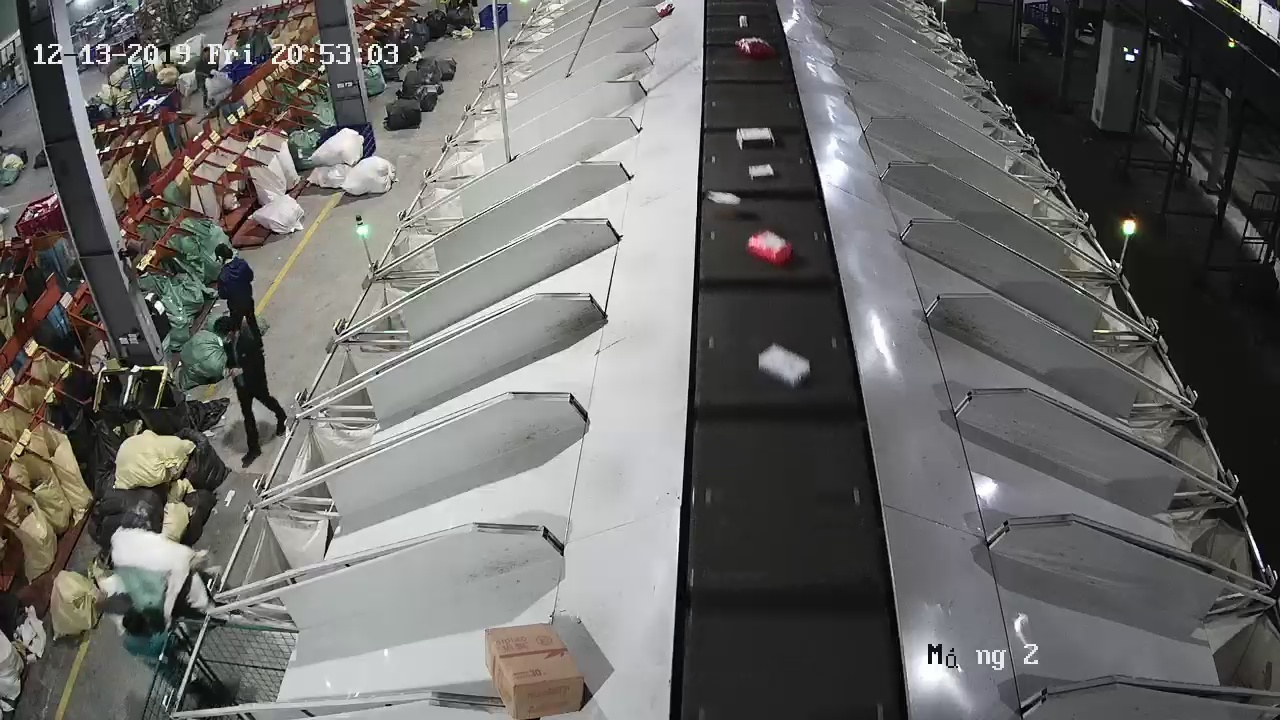parcel: (705, 189, 740, 220)
